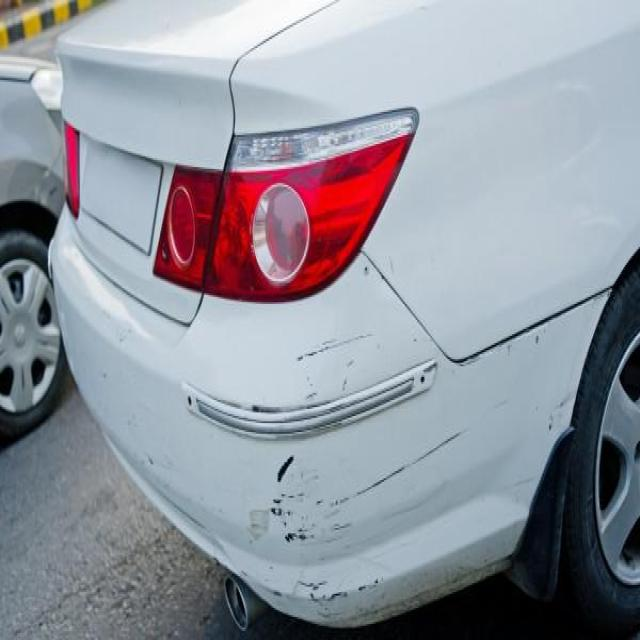scratch: (326, 414, 472, 516), (288, 317, 378, 375)
